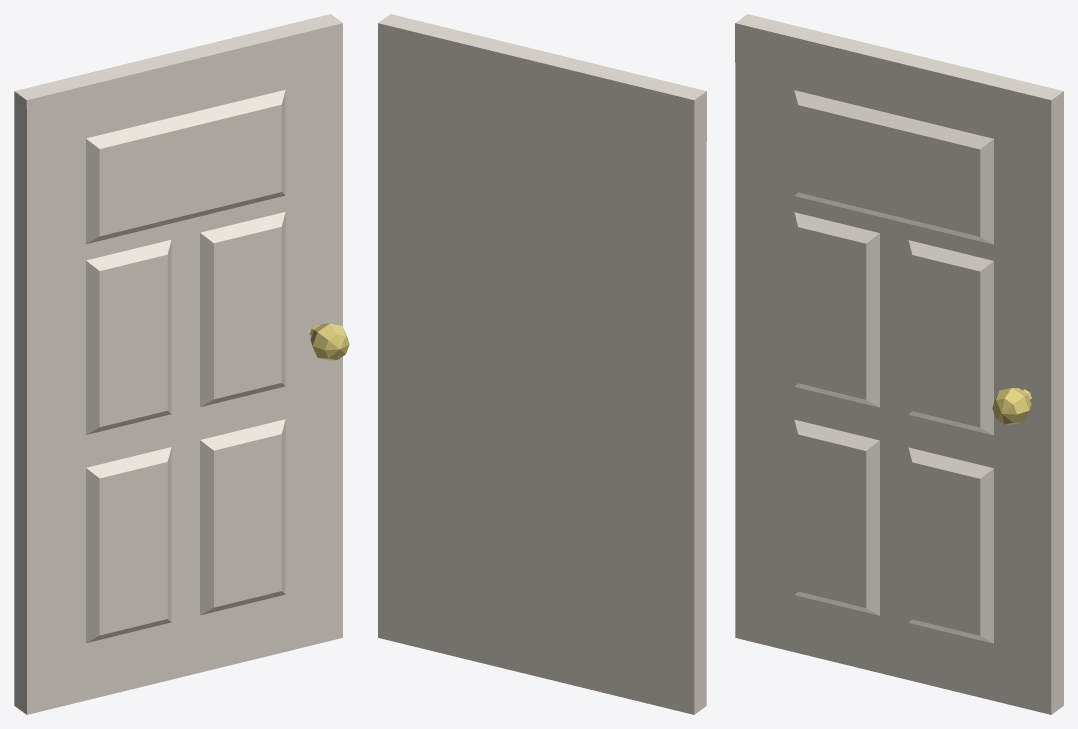
The model's file is Itr_Door_07.FBX.
3 views of the same model, side by side, from view 1: azimuth 30°, elevation 25°; view 2: azimuth 150°, elevation 25°; view 3: azimuth 330°, elevation 25° (orthographic).
Visible parts, largest first — view 1: Itr_Door_07; view 2: Itr_Door_07; view 3: Itr_Door_07.
Part boxes in pixels (bbox=[...]): Itr_Door_07: bbox=[14, 14, 349, 714]; Itr_Door_07: bbox=[378, 14, 706, 714]; Itr_Door_07: bbox=[735, 14, 1063, 714].
Size of the model in its own units: 43.59 by 80.97 by 8.56.
